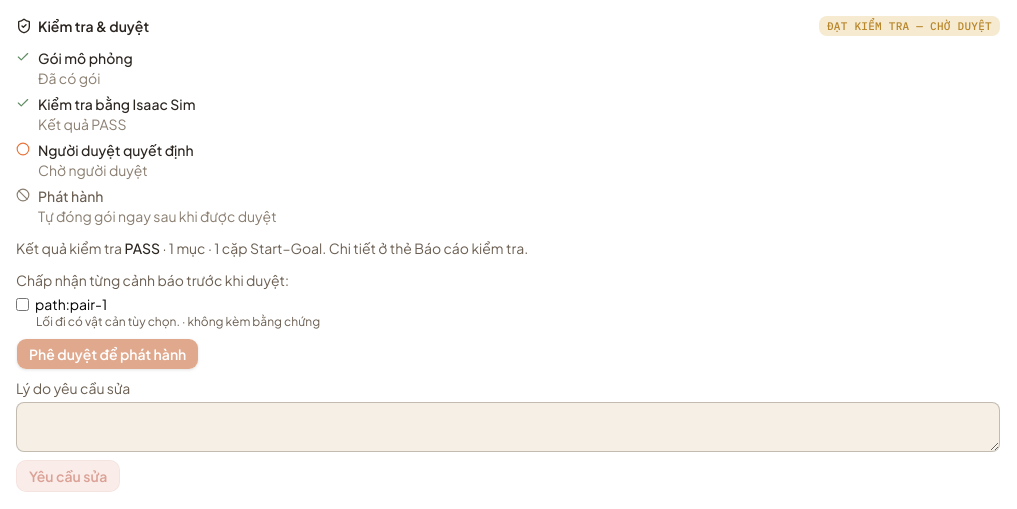
Scenario: ReviewPanel › từ chối cần lý do khi validation đã đủ điều kiện
Expected: the button "Yêu cầu sửa" is disabled, [16,460,120,492]
In the text box labelled "Lý do yêu cầu sửa": (508, 427) [16,402,1000,452], type "Kệ lệch"
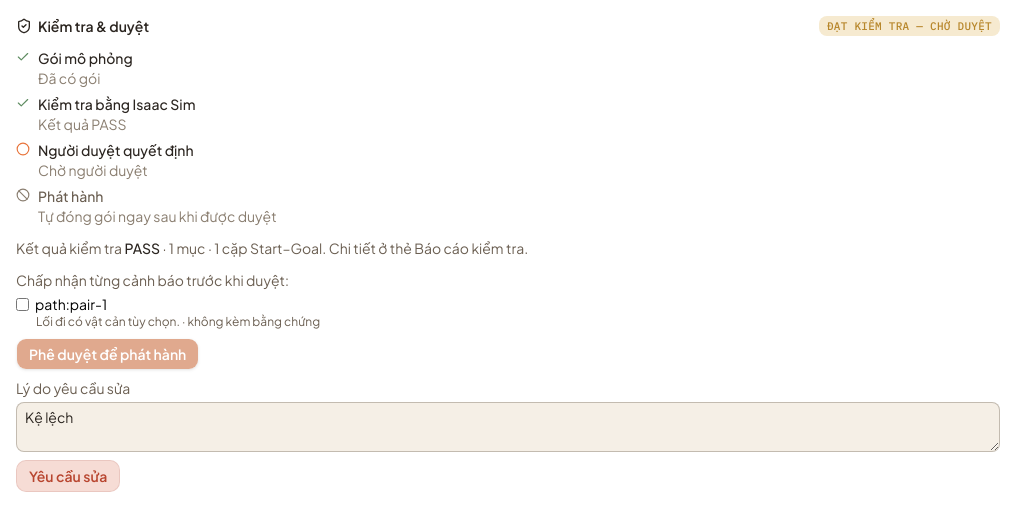
Expected: the button "Yêu cầu sửa" is enabled, [16,460,120,492]
